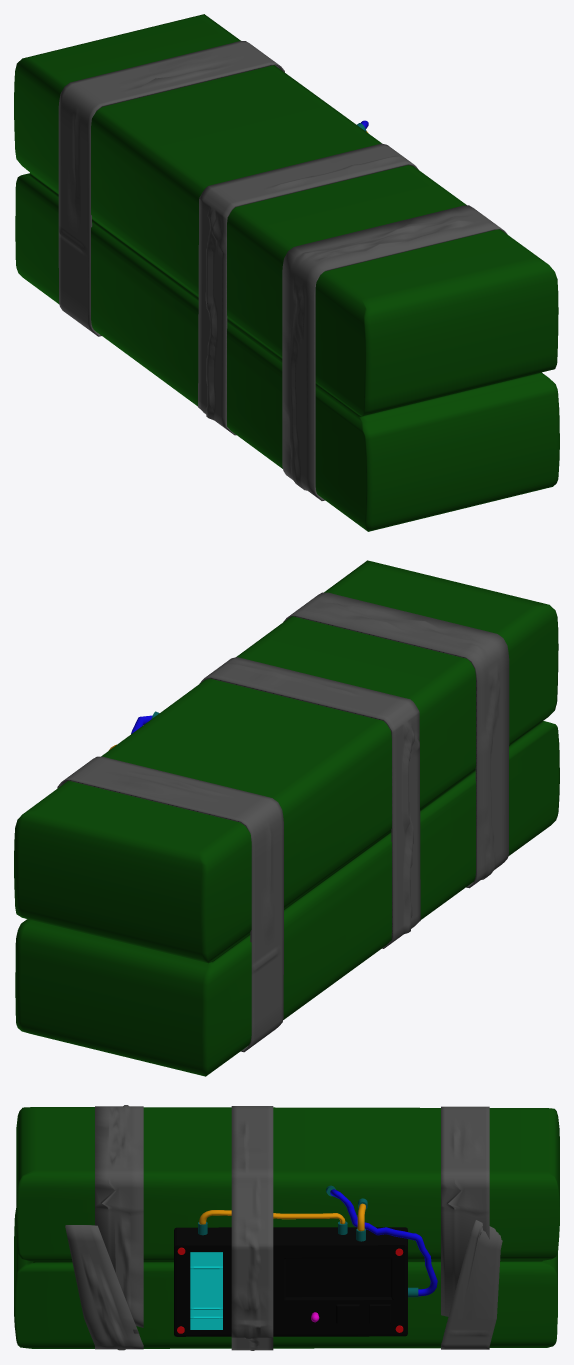
The picture shows the model from 3 angles, top to bottom: view 1: azimuth 30°, elevation 25°; view 2: azimuth 150°, elevation 25°; view 3: azimuth 270°, elevation 25°; orthographic projection. The views are drawn at different scales.
Visible parts, largest first — view 1: Cube.001; view 2: Cube.001; view 3: Cube.001.
Boxes of the visible parts, left/top/right/bottom form: Cube.001: left=14, top=14, right=559, bottom=531; Cube.001: left=14, top=560, right=559, bottom=1076; Cube.001: left=14, top=1105, right=559, bottom=1350.
Size of the model in its own units: 50.52 by 44.66 by 121.
